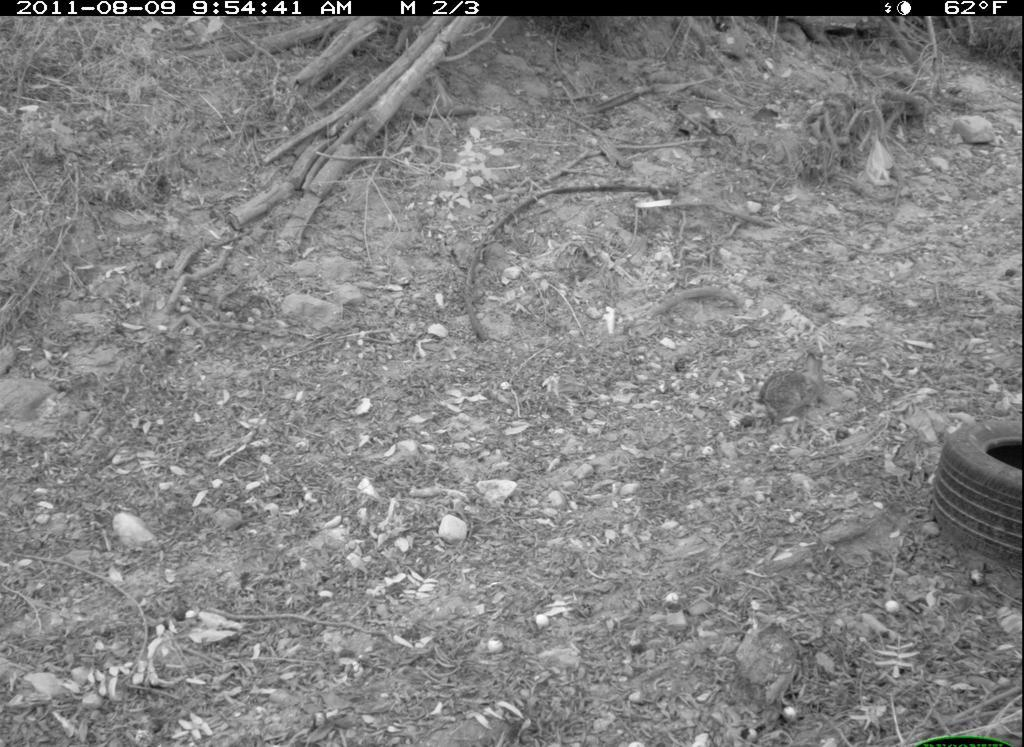rabbit: (752, 345, 836, 425)
